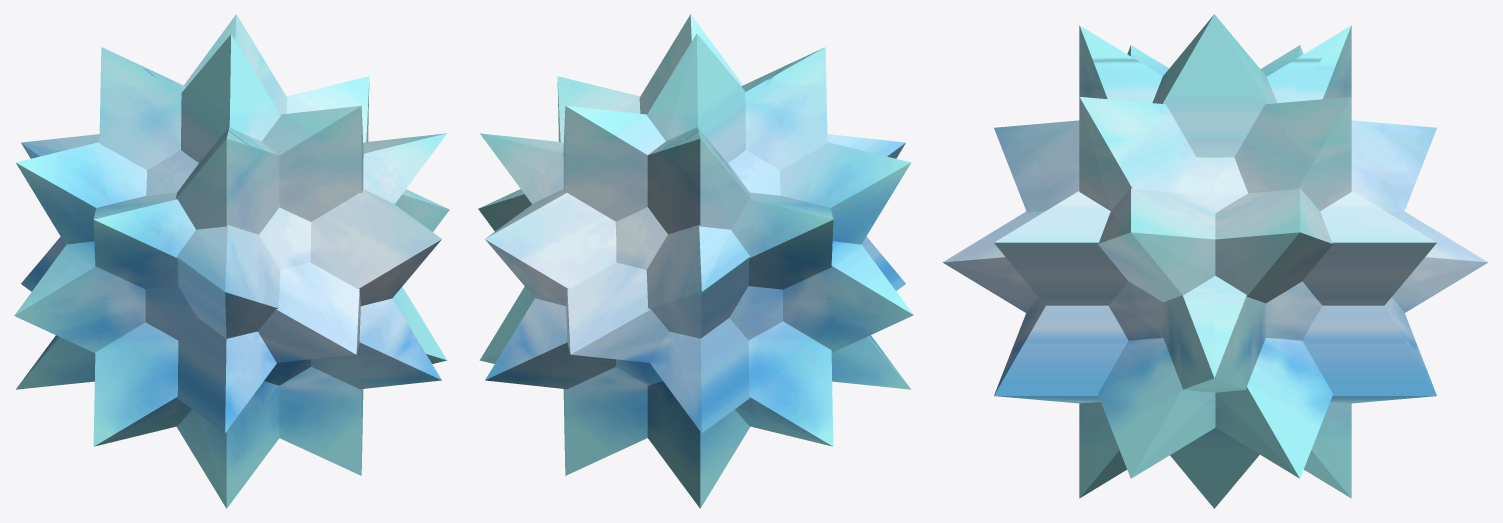
Rendered from Spark.glb.
3 renders of one model, left to right at view 1: azimuth 30°, elevation 25°; view 2: azimuth 150°, elevation 25°; view 3: azimuth 270°, elevation 25°, orthographic. The views are drawn at different scales.
Visible parts, largest first — view 1: Spark; view 2: Spark; view 3: Spark.
Part boxes in pixels (x1=…): Spark: x1=14, y1=14, x2=449, y2=508; Spark: x1=478, y1=14, x2=913, y2=508; Spark: x1=942, y1=14, x2=1488, y2=508.
Size of the model in its own units: 3.34 by 3.34 by 3.34.
Materials: 1 (1 with a texture image).
